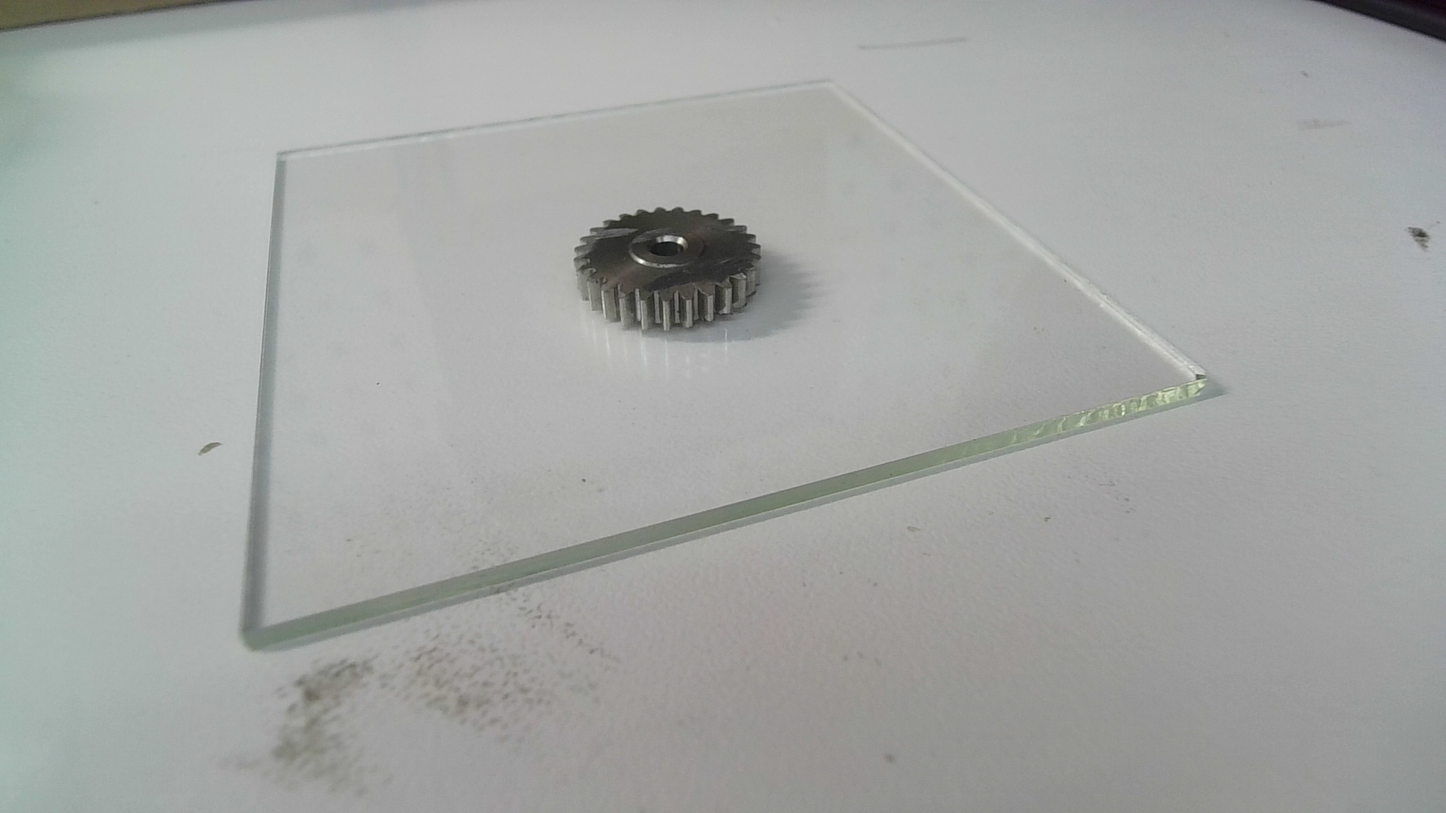gear: (569, 203, 763, 336)
